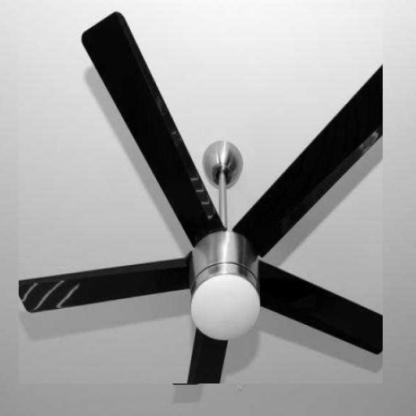ceiling-fan: (19, 10, 384, 384)
